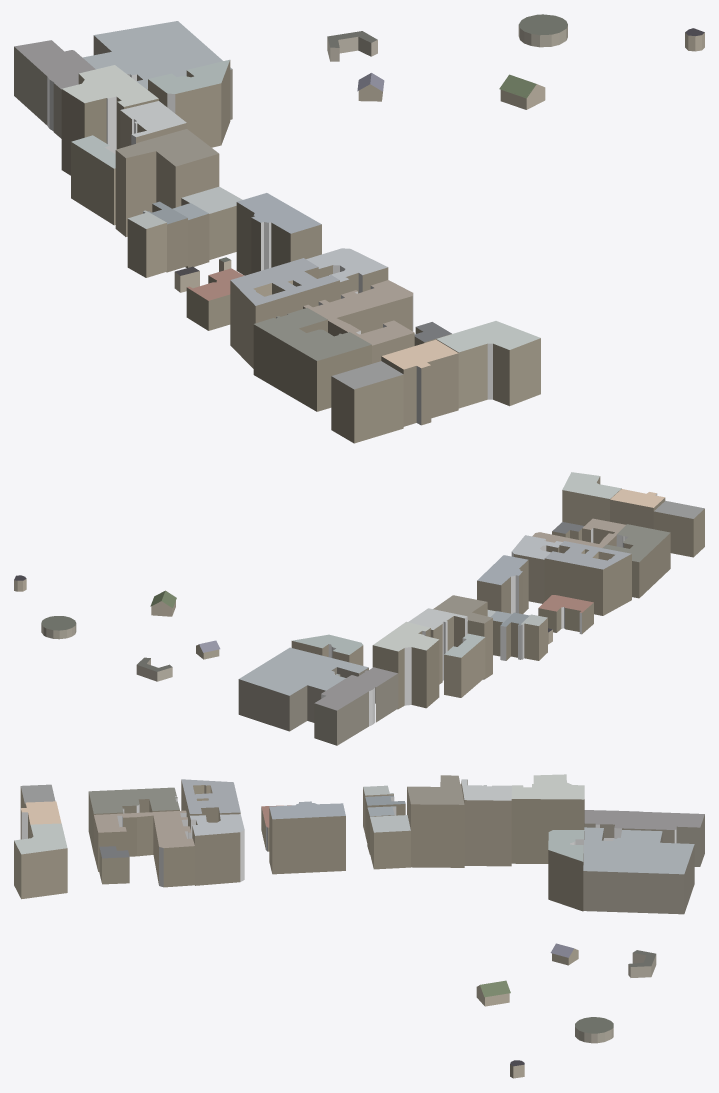
3 views of the same model, one above another, from view 1: azimuth 30°, elevation 25°; view 2: azimuth 150°, elevation 25°; view 3: azimuth 270°, elevation 25° (orthographic). The views are drawn at different scales.
Parts seen in each view (by area): view 1: tuile; view 2: tuile; view 3: tuile.
Boxes of the visible parts, x1,y1,x2,y2 form: tuile: (14,14,704,443); tuile: (14,472,704,745); tuile: (14,774,704,1078).
Size of the model in its own units: 219 by 29.81 by 248.
